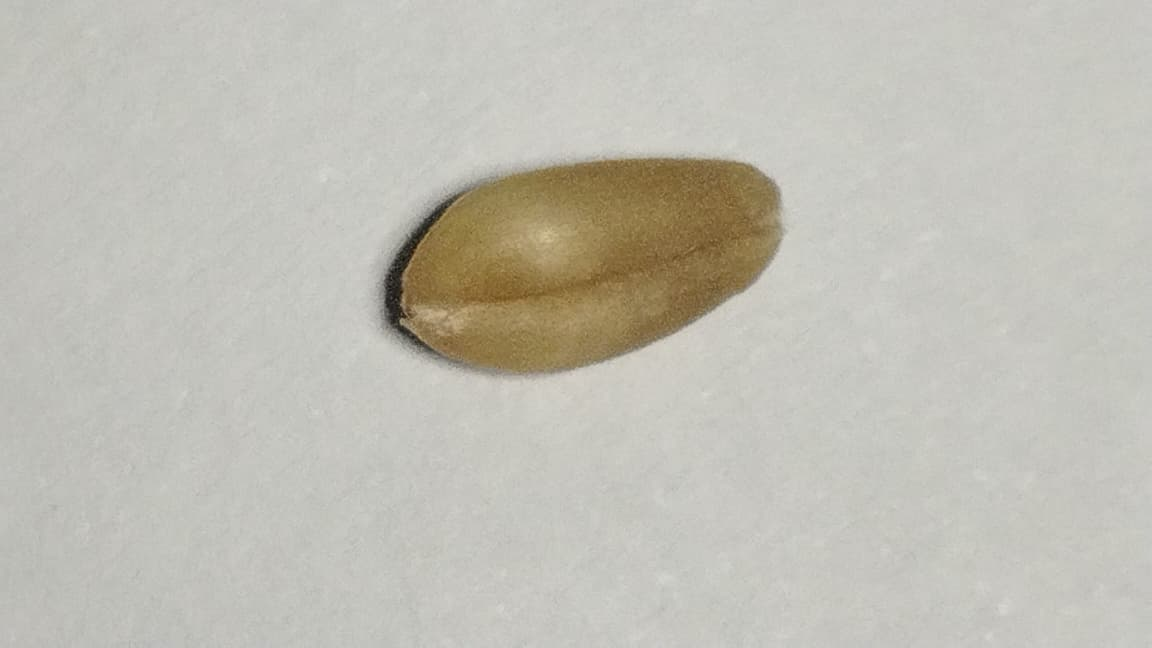healthy: (401, 159, 776, 370)
